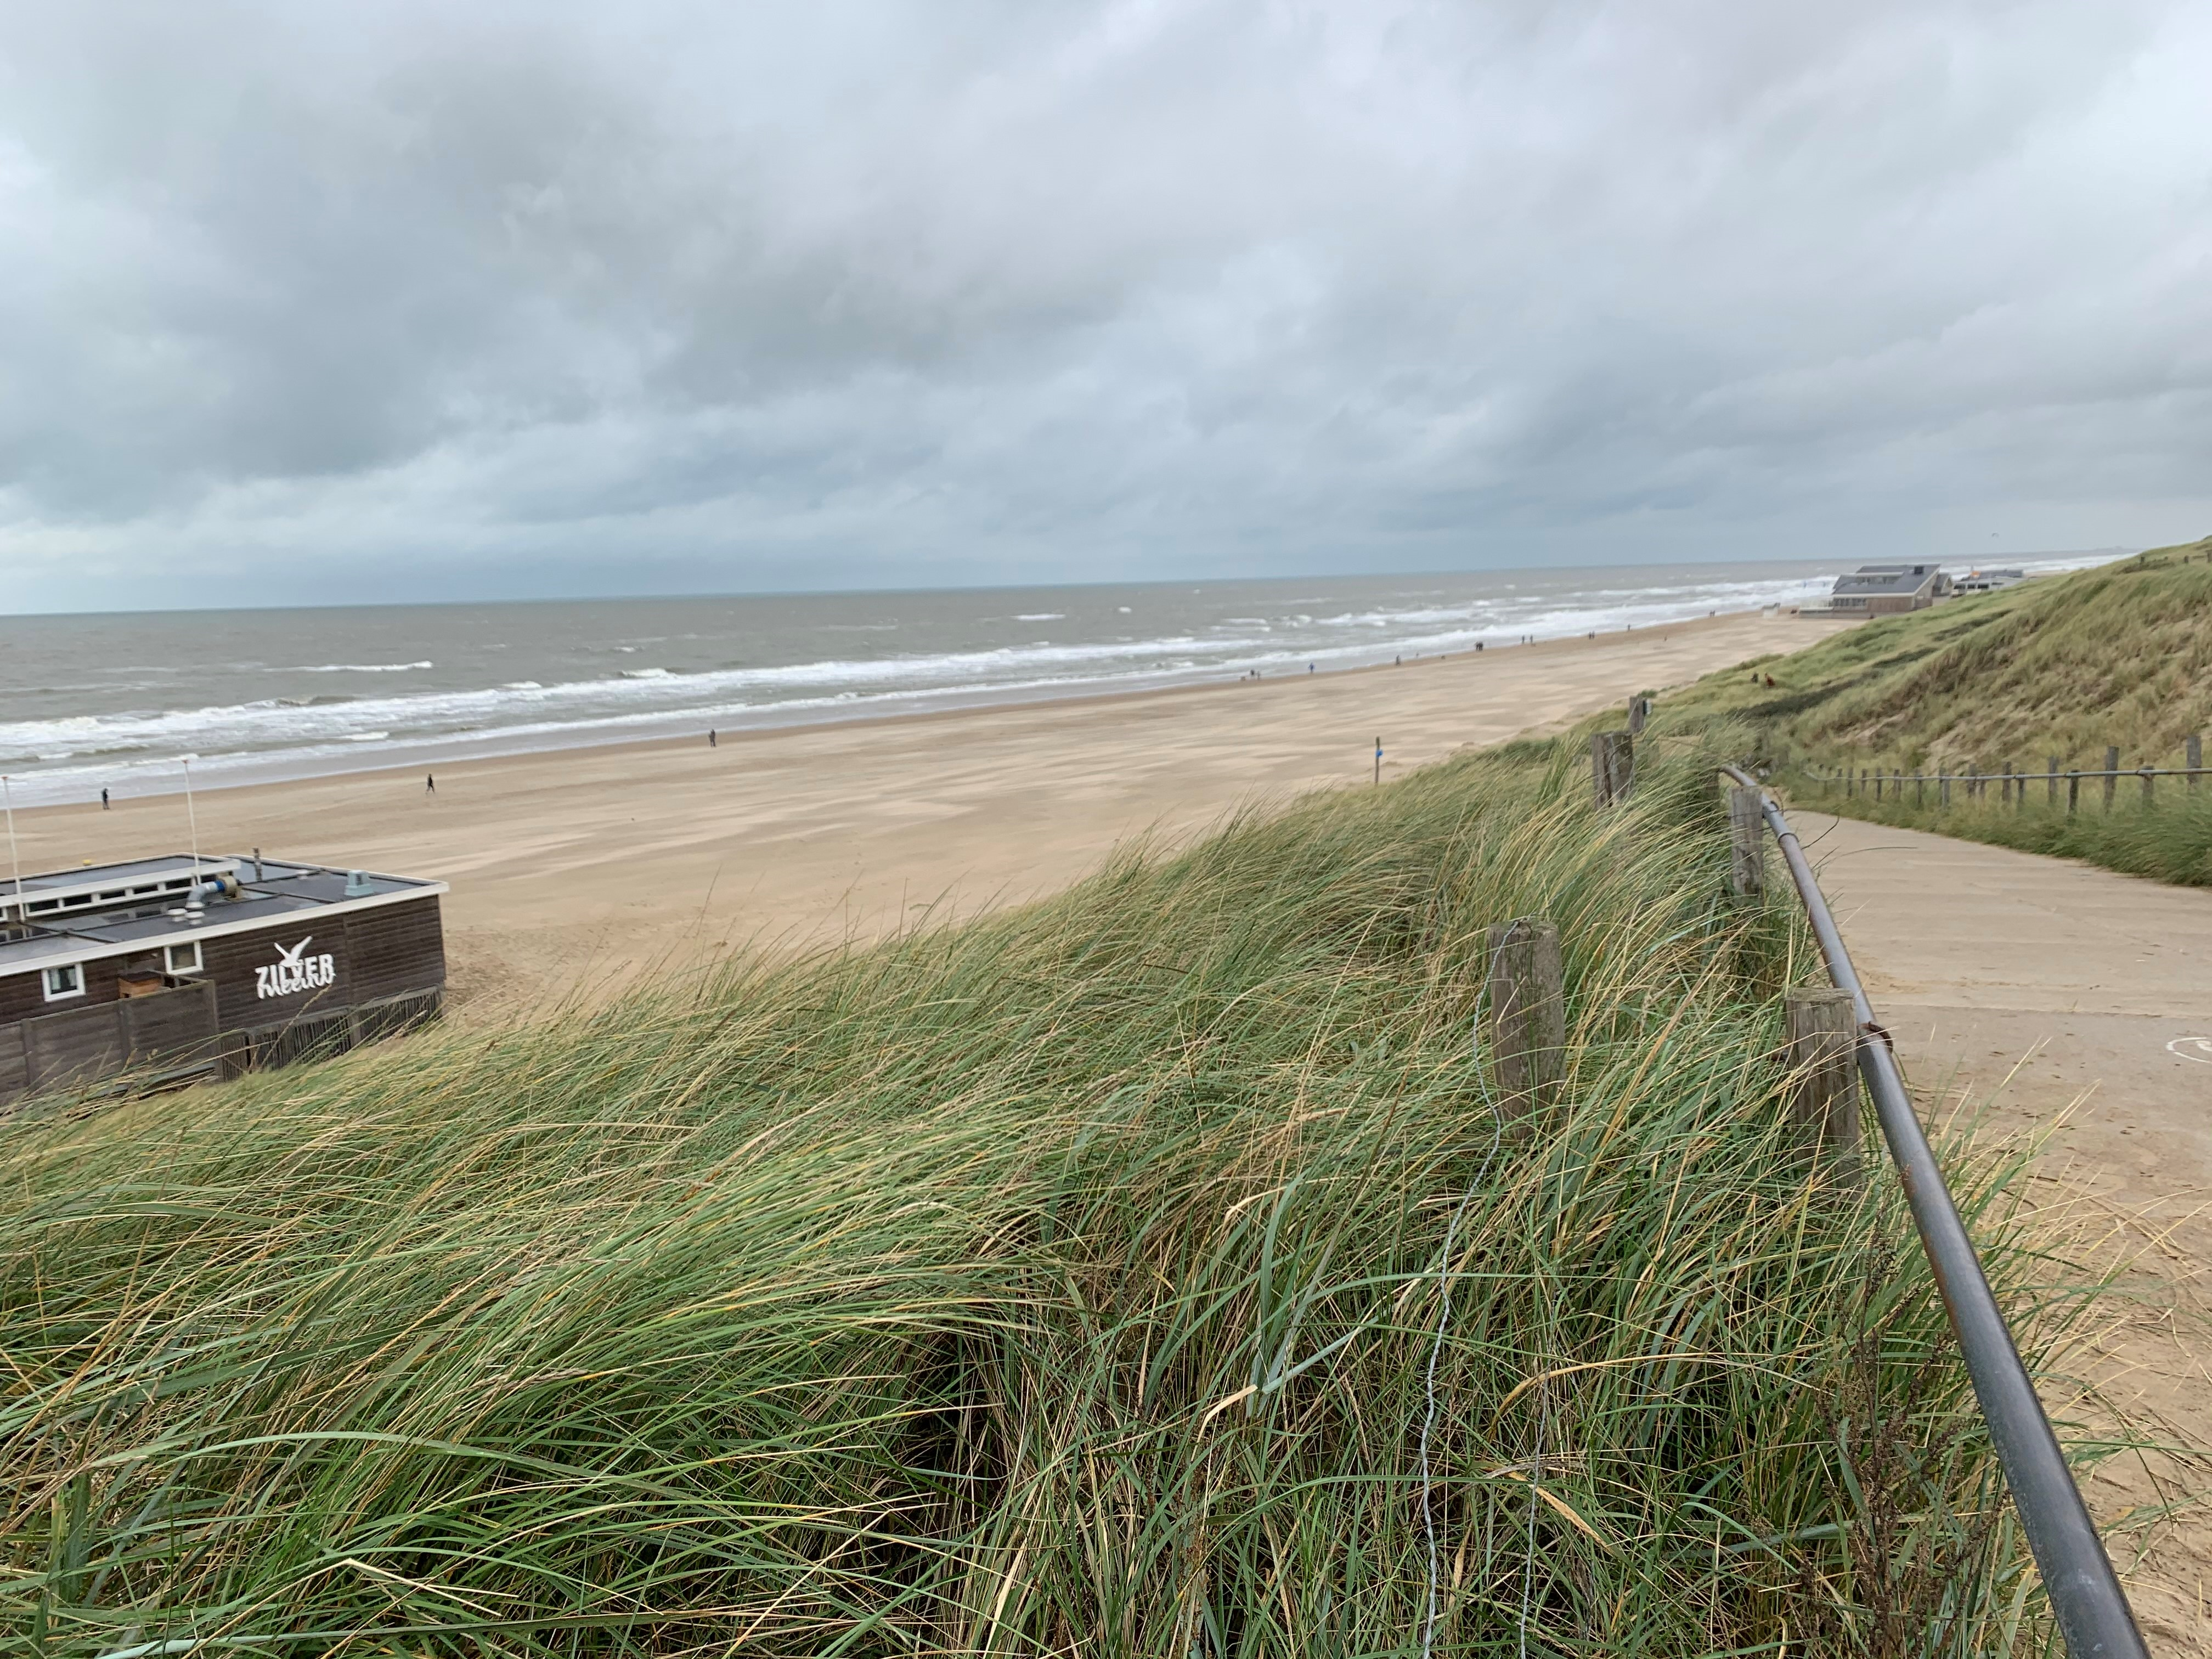strandtent: (1771, 552, 1958, 641)
